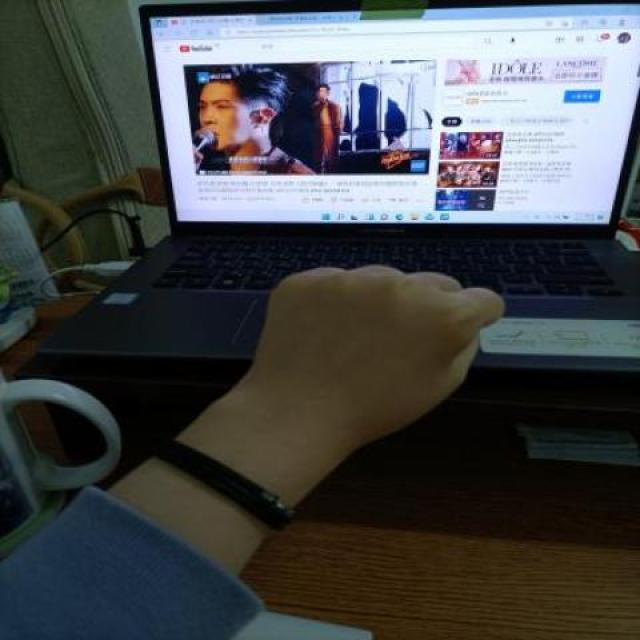Closed Hand: (252, 259, 509, 441)
